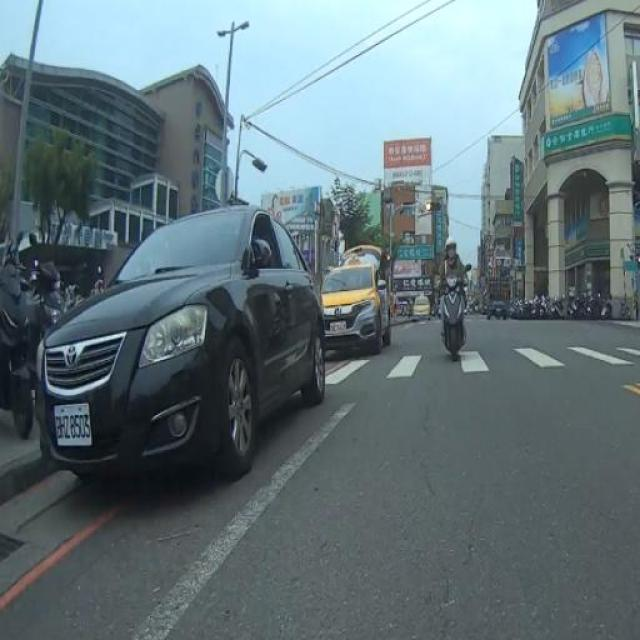illegalparking: (17, 213, 403, 493)
